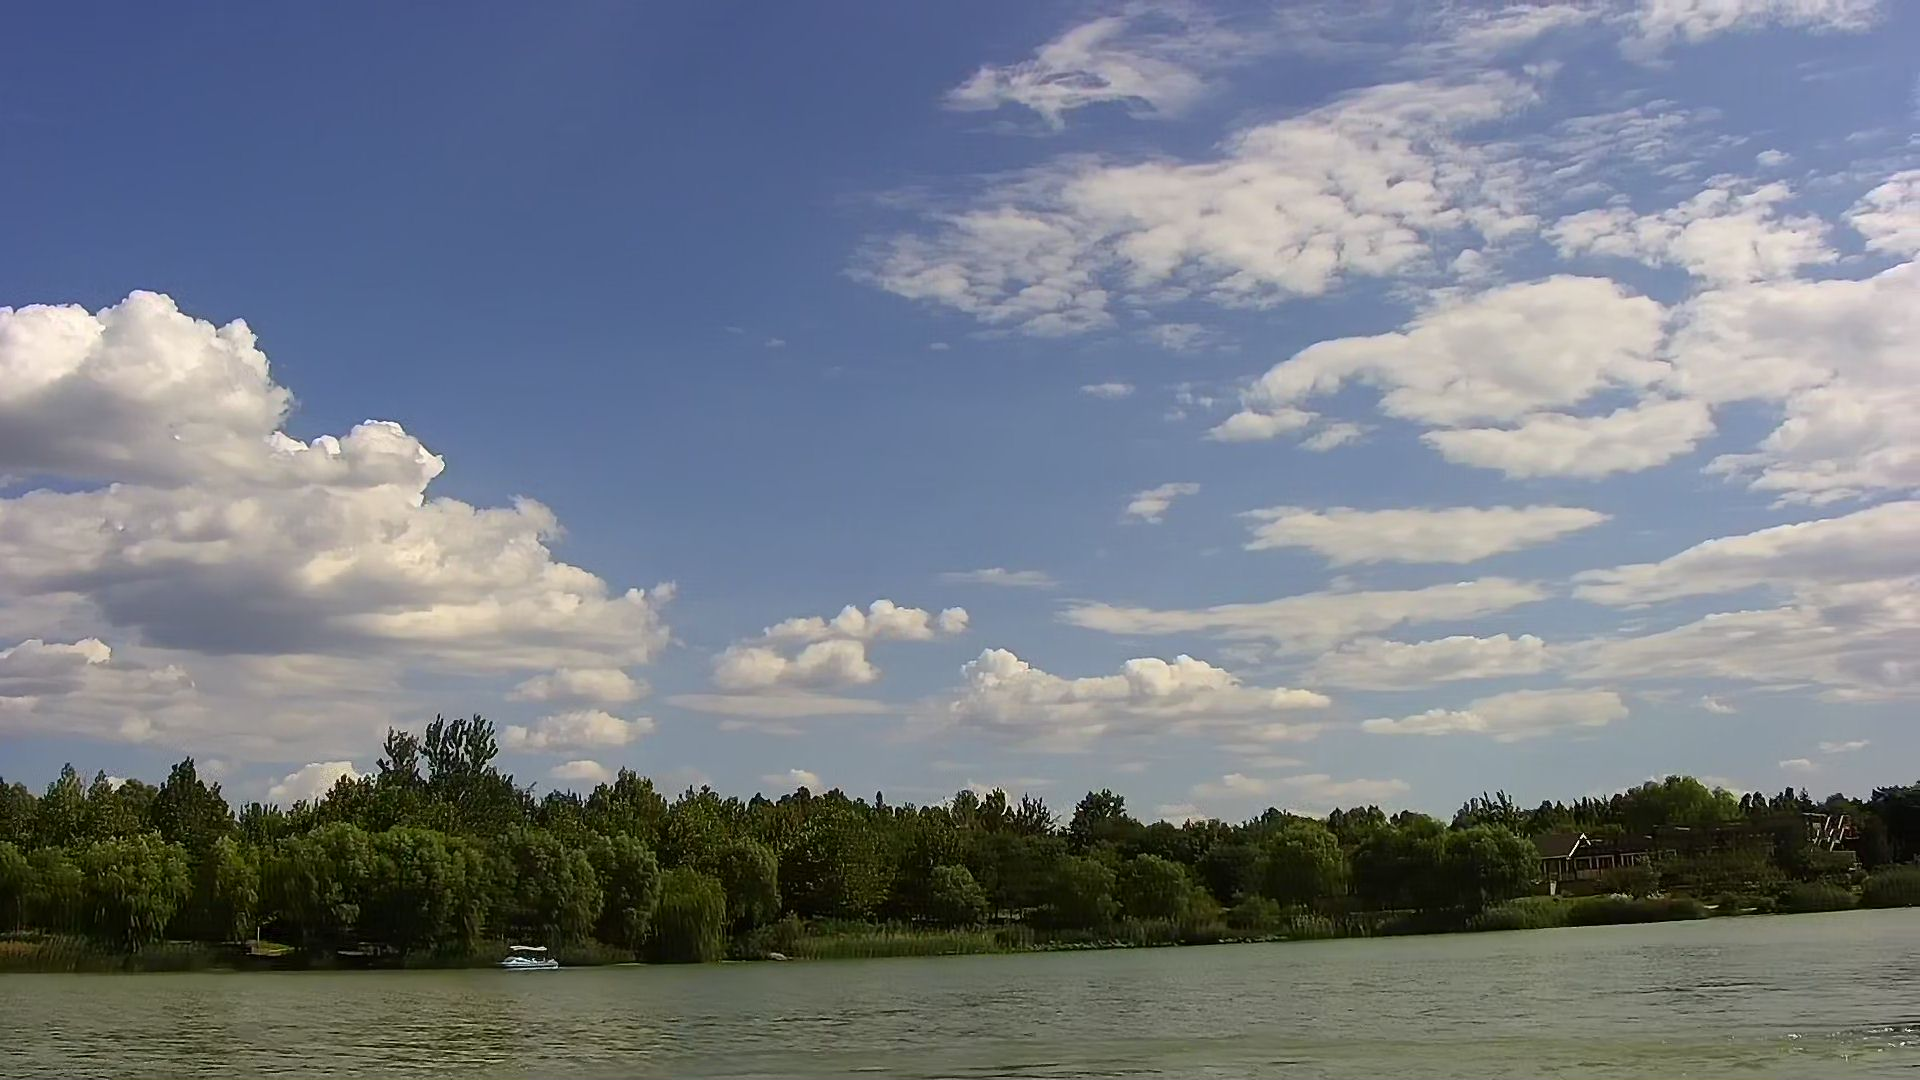boat: (502, 942, 555, 968)
